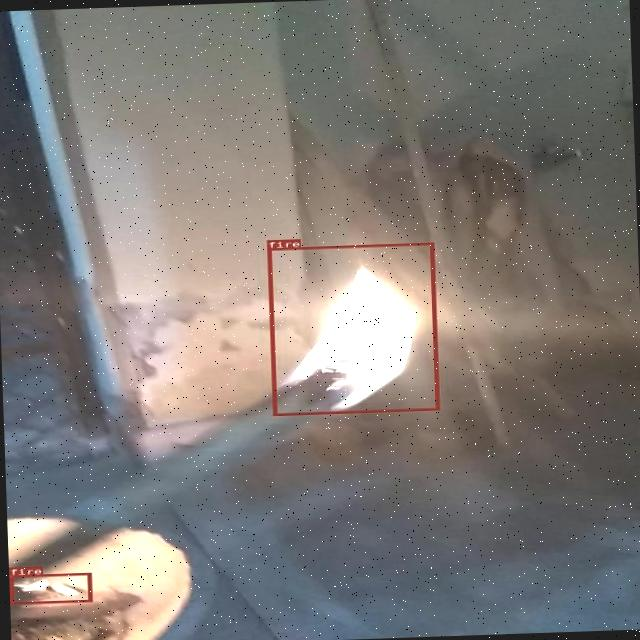fire: (267, 242, 438, 415), (8, 571, 92, 604)
